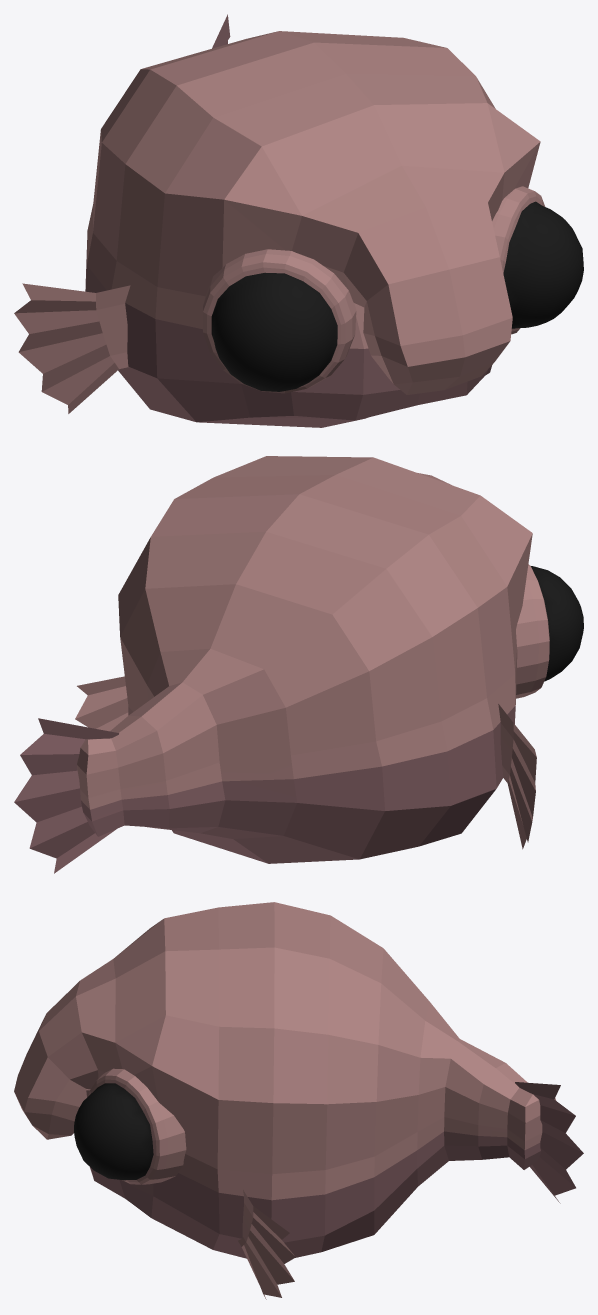
File: Blobfish.glb
The picture shows the model from 3 angles, top to bottom: view 1: azimuth 30°, elevation 25°; view 2: azimuth 150°, elevation 25°; view 3: azimuth 270°, elevation 25°; orthographic projection. The views are drawn at different scales.
Visible parts, largest first — view 1: Blobfish_Cube.026; view 2: Blobfish_Cube.026; view 3: Blobfish_Cube.026.
Boxes of the visible parts, <box> form: Blobfish_Cube.026: <box>14,14,583,427</box>; Blobfish_Cube.026: <box>14,456,583,873</box>; Blobfish_Cube.026: <box>14,902,583,1299</box>.
Size of the model in its own units: 3.4 by 2.37 by 4.24.
